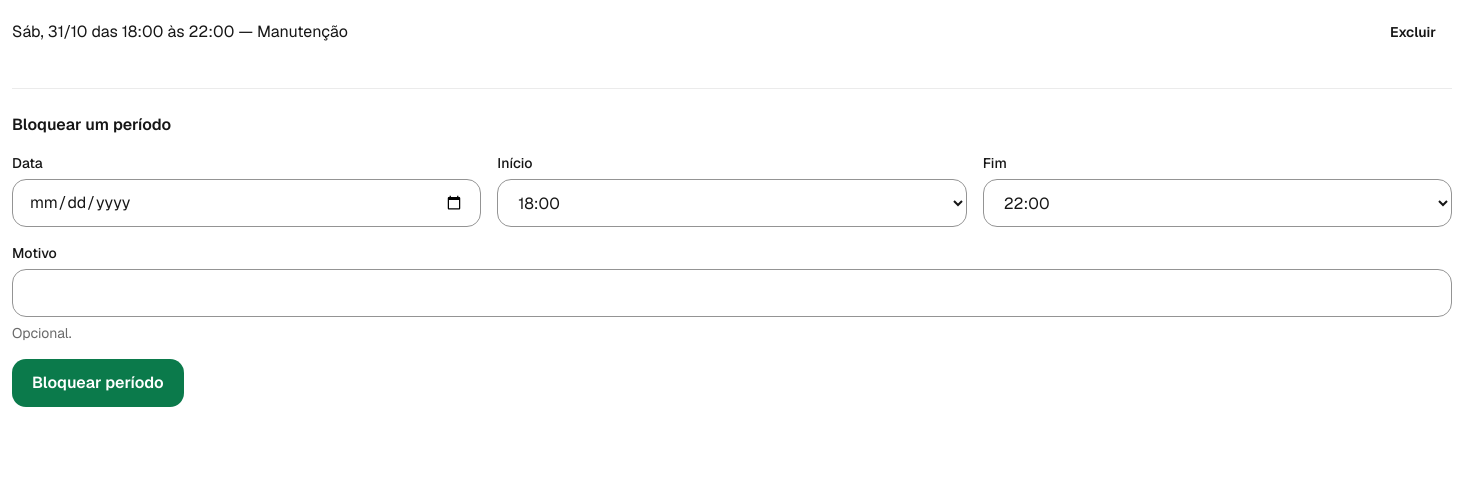
Test: BlocksEditor › keeps the block and says why when the deletion fails
Click the button with aria-label "Excluir bloqueio 1" at (1413, 32), box [1374,12,1452,52]
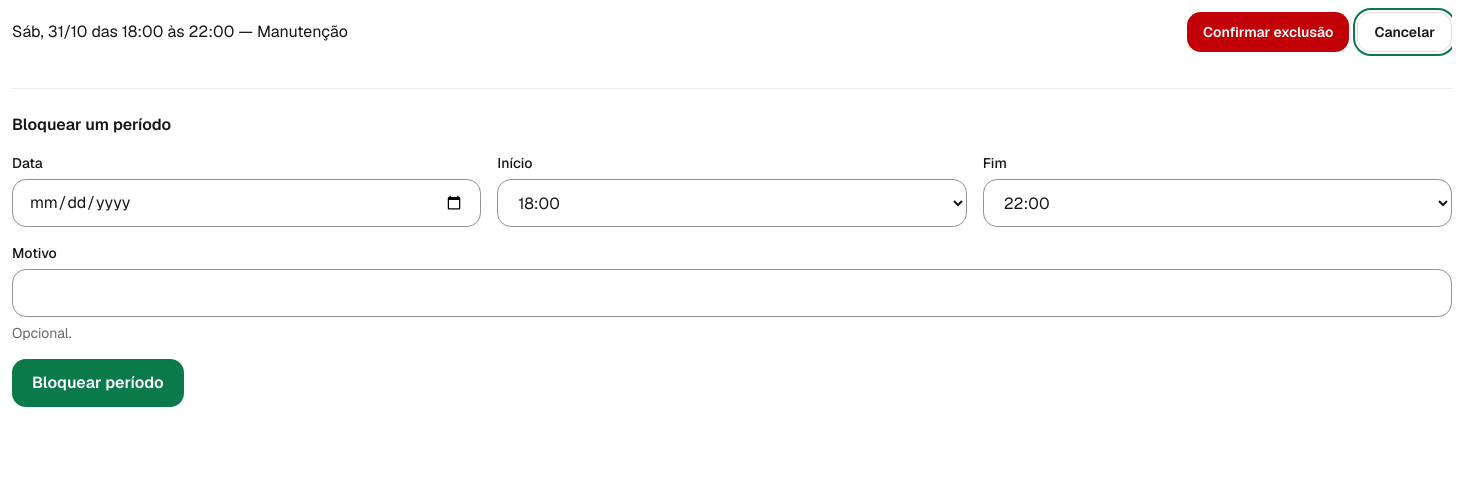
Click the button "Confirmar exclusão" at (1268, 32), box [1187,12,1350,52]
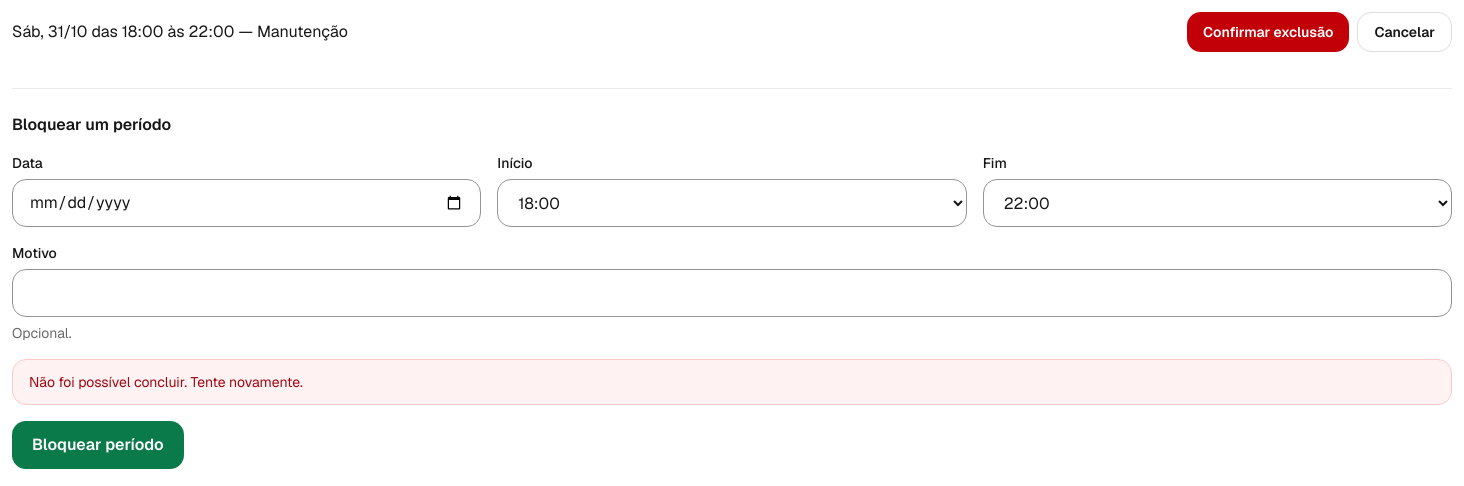
Expected: the list item "Manutenção" is shown, [12,21,348,42]
Now the message reads "Não foi possível concluir. Tente novamente.", box [29,373,303,391]
